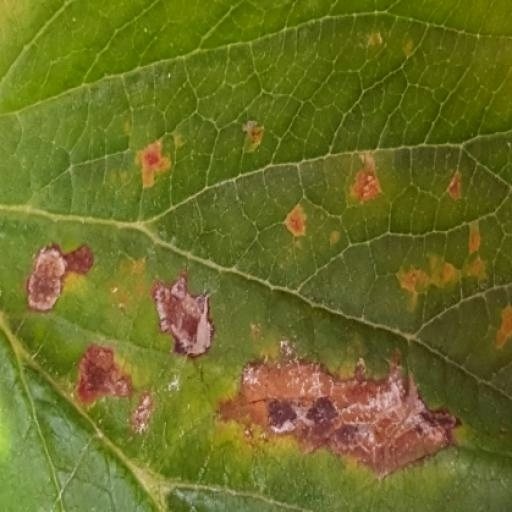Angular Leafspot: (0, 24, 497, 485)
